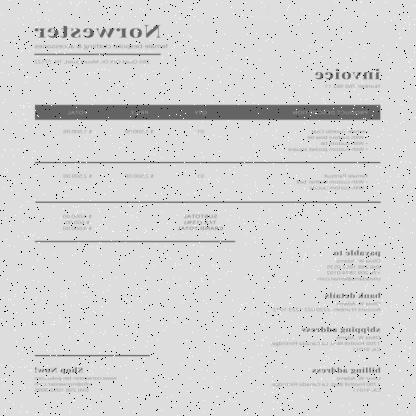Paragraph: (31, 22, 171, 67), (60, 210, 226, 235), (268, 324, 385, 354), (268, 364, 385, 394), (271, 290, 383, 314), (31, 365, 119, 394), (315, 248, 385, 282), (312, 66, 384, 90)
Table: (59, 106, 376, 194)
